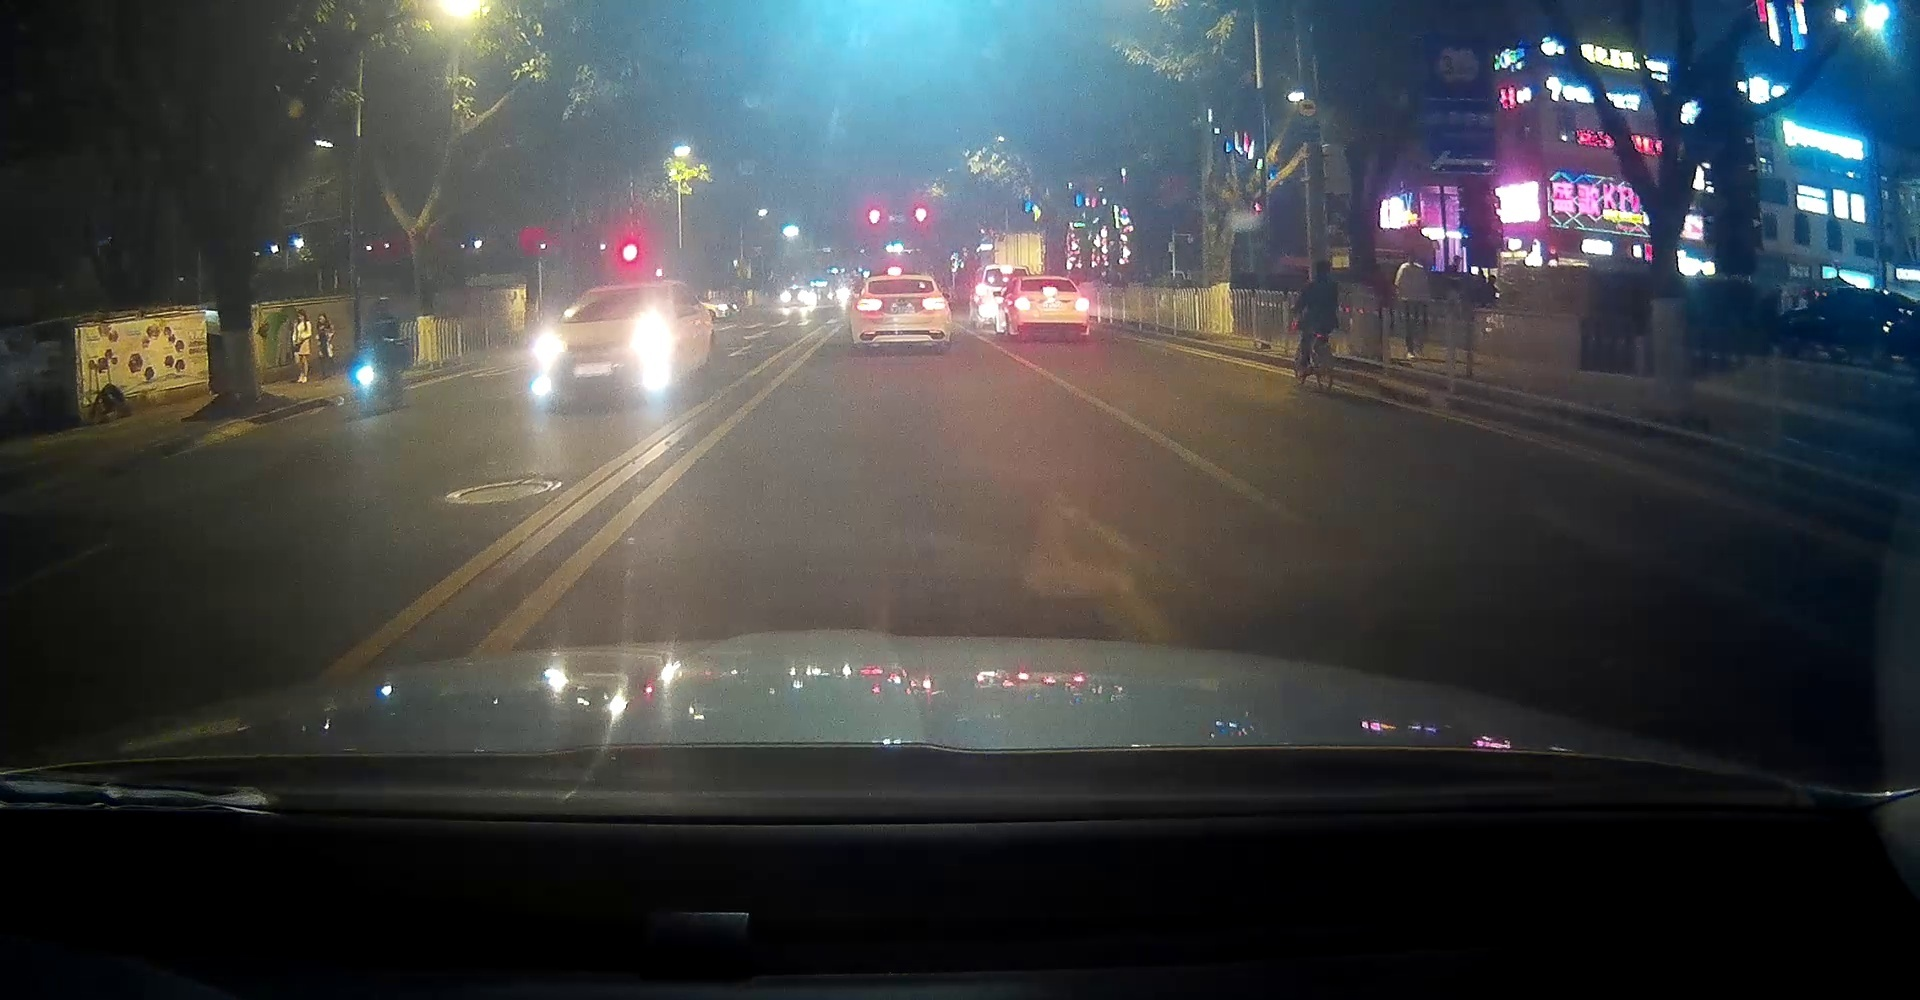L_light: (855, 298, 883, 311), (1015, 298, 1031, 308)
R_light: (921, 297, 945, 308), (1076, 299, 1090, 308)
T_light: (1043, 287, 1058, 292), (897, 279, 909, 282)
night-no: (850, 274, 952, 350), (1013, 275, 1090, 338)
